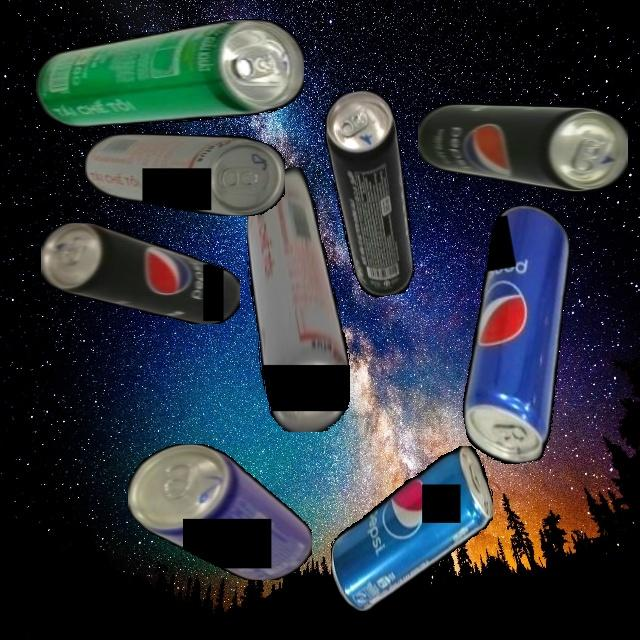debris: (430, 199, 605, 471), (35, 19, 304, 127), (246, 166, 350, 432), (330, 445, 493, 611), (128, 443, 312, 580), (319, 86, 425, 301), (41, 222, 240, 324), (417, 104, 628, 192), (84, 134, 285, 216)
